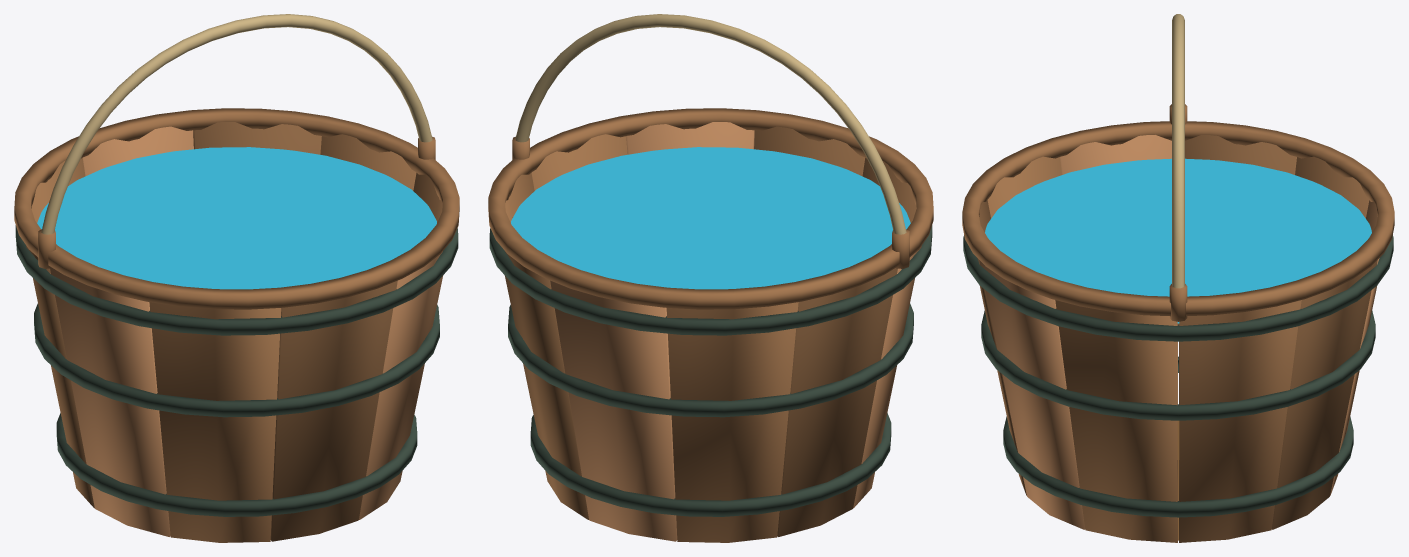
Rendered from Bucket.glb.
The picture shows the model from 3 angles, left to right: view 1: azimuth 30°, elevation 25°; view 2: azimuth 150°, elevation 25°; view 3: azimuth 270°, elevation 25°; orthographic projection. The views are drawn at different scales.
Parts seen in each view (by area): view 1: Bucket, Handle; view 2: Bucket, Handle; view 3: Bucket, Handle.
Boxes of the visible parts, left/top/right/bottom form: Bucket: left=14, top=108, right=459, bottom=542; Handle: left=41, top=14, right=432, bottom=234; Bucket: left=488, top=108, right=933, bottom=542; Handle: left=515, top=14, right=906, bottom=234; Bucket: left=962, top=104, right=1394, bottom=542; Handle: left=1172, top=14, right=1184, bottom=288.
Bounding box in the file's own units: 1.25 × 1.37 × 1.22.
